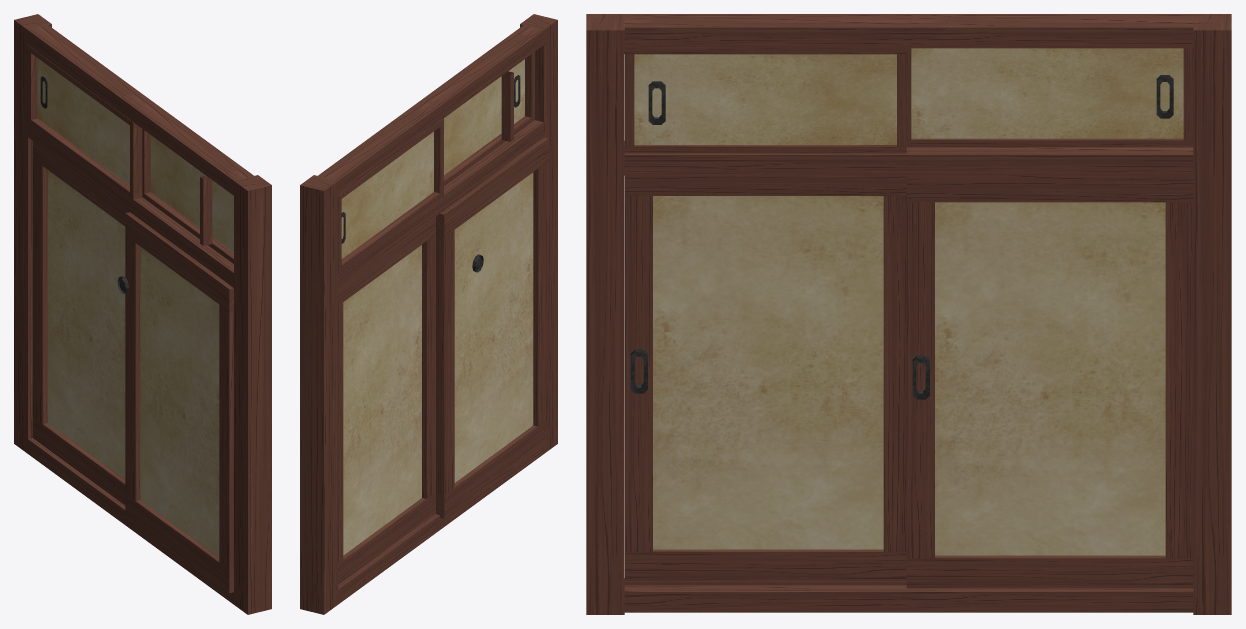
File: SM_wardrobeClosed.fbx
The picture shows the model from 3 angles, left to right: view 1: azimuth 30°, elevation 25°; view 2: azimuth 150°, elevation 25°; view 3: azimuth 270°, elevation 25°; orthographic projection. The views are drawn at different scales.
Parts seen in each view (by area): view 1: SM_wardrobeClosed; view 2: SM_wardrobeClosed; view 3: SM_wardrobeClosed.
Boxes of the visible parts, x1,y1,x2,y2 form: SM_wardrobeClosed: (14, 14, 271, 614); SM_wardrobeClosed: (300, 14, 557, 614); SM_wardrobeClosed: (586, 14, 1231, 614).
Bounding box in the file's own units: 3528 × 30000 × 30000.
